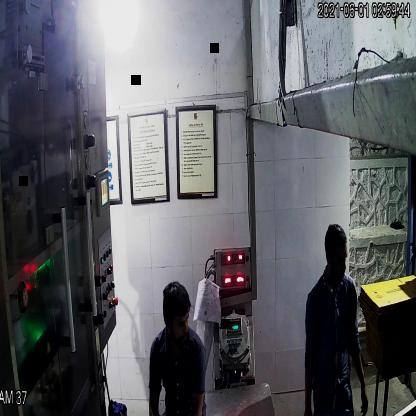no_goggles: (164, 311, 192, 333)
